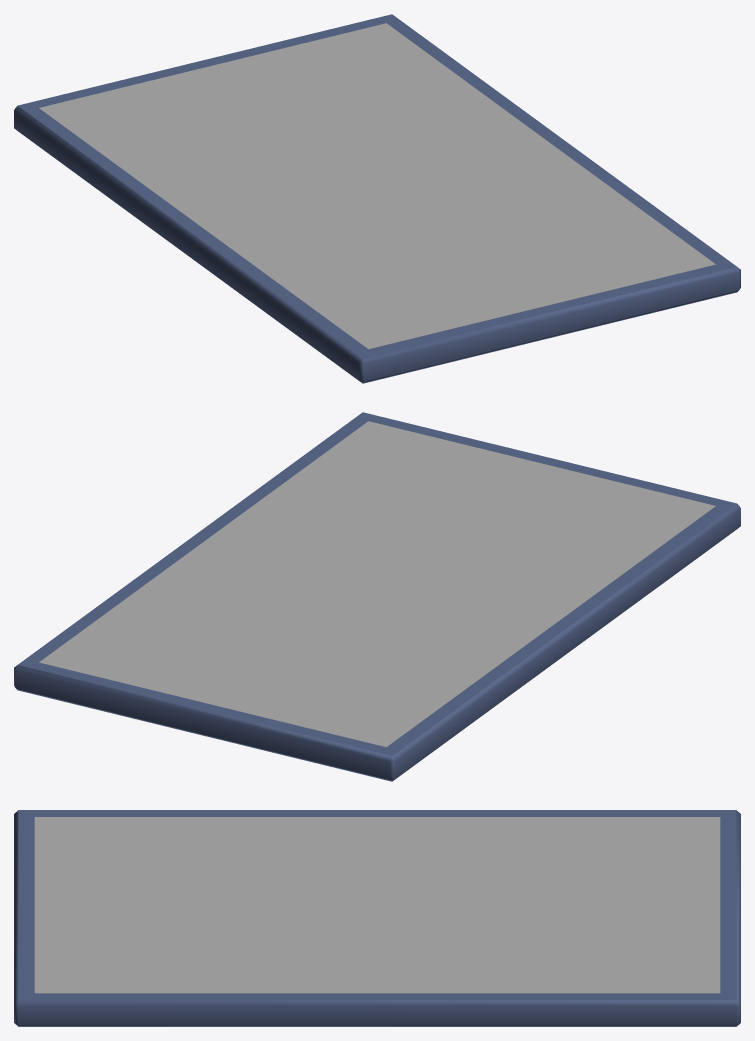
The model's file is LongSlabStone.fbx.
3 views of the same model, one above another, from view 1: azimuth 30°, elevation 25°; view 2: azimuth 150°, elevation 25°; view 3: azimuth 270°, elevation 25° (orthographic). The views are drawn at different scales.
Visible parts, largest first — view 1: LongSlabStone_1, LongSlabStone_2; view 2: LongSlabStone_1, LongSlabStone_2; view 3: LongSlabStone_1, LongSlabStone_2.
Part boxes in pixels (left/top/right/bottom): LongSlabStone_1: left=39, top=23, right=715, bottom=349; LongSlabStone_2: left=14, top=14, right=740, bottom=383; LongSlabStone_1: left=39, top=421, right=715, bottom=747; LongSlabStone_2: left=14, top=412, right=740, bottom=781; LongSlabStone_1: left=34, top=817, right=720, bottom=993; LongSlabStone_2: left=14, top=810, right=740, bottom=1026.
Bounding box in the file's own units: 5.68 × 0.3634 × 9.01.
